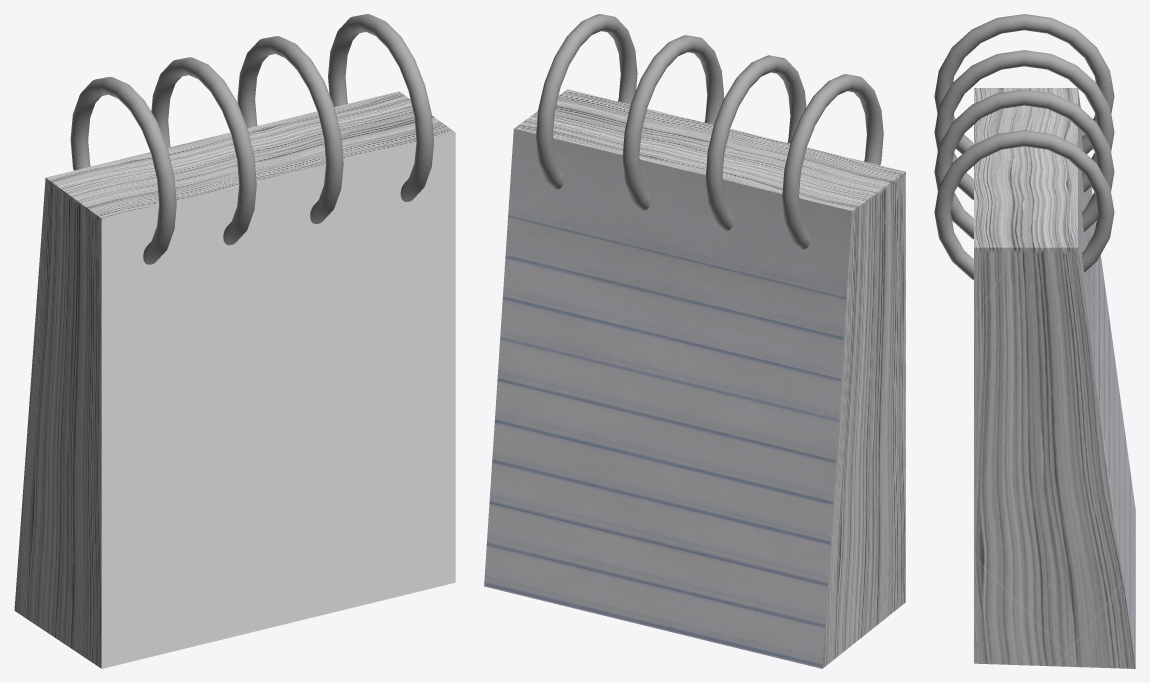
Rendered from Block.fbx.
3 views of the same model, side by side, from view 1: azimuth 30°, elevation 25°; view 2: azimuth 150°, elevation 25°; view 3: azimuth 270°, elevation 25° (orthographic). The views are drawn at different scales.
Visible parts, largest first — view 1: Block, pTorus4, pTorus1, pTorus2, pTorus3; view 2: Block, pTorus4, pTorus1, pTorus2, pTorus3; view 3: Block, pTorus1, pTorus2, pTorus3, pTorus4.
Boxes of the visible parts, left/top/right/bottom form: Block: left=14, top=91, right=455, bottom=668; pTorus4: left=70, top=77, right=176, bottom=264; pTorus1: left=328, top=14, right=433, bottom=201; pTorus2: left=237, top=36, right=343, bottom=223; pTorus3: left=151, top=57, right=256, bottom=245; Block: left=484, top=89, right=905, bottom=668; pTorus4: left=782, top=74, right=883, bottom=249; pTorus1: left=536, top=14, right=637, bottom=189; pTorus2: left=622, top=35, right=723, bottom=210; pTorus3: left=705, top=55, right=806, bottom=230; Block: left=974, top=88, right=1135, bottom=668; pTorus1: left=934, top=130, right=1114, bottom=279; pTorus2: left=934, top=89, right=1114, bottom=239; pTorus3: left=934, top=50, right=1114, bottom=199; pTorus4: left=934, top=14, right=1114, bottom=153.
Size of the model in its own units: 2.73 by 4.12 by 1.45.
